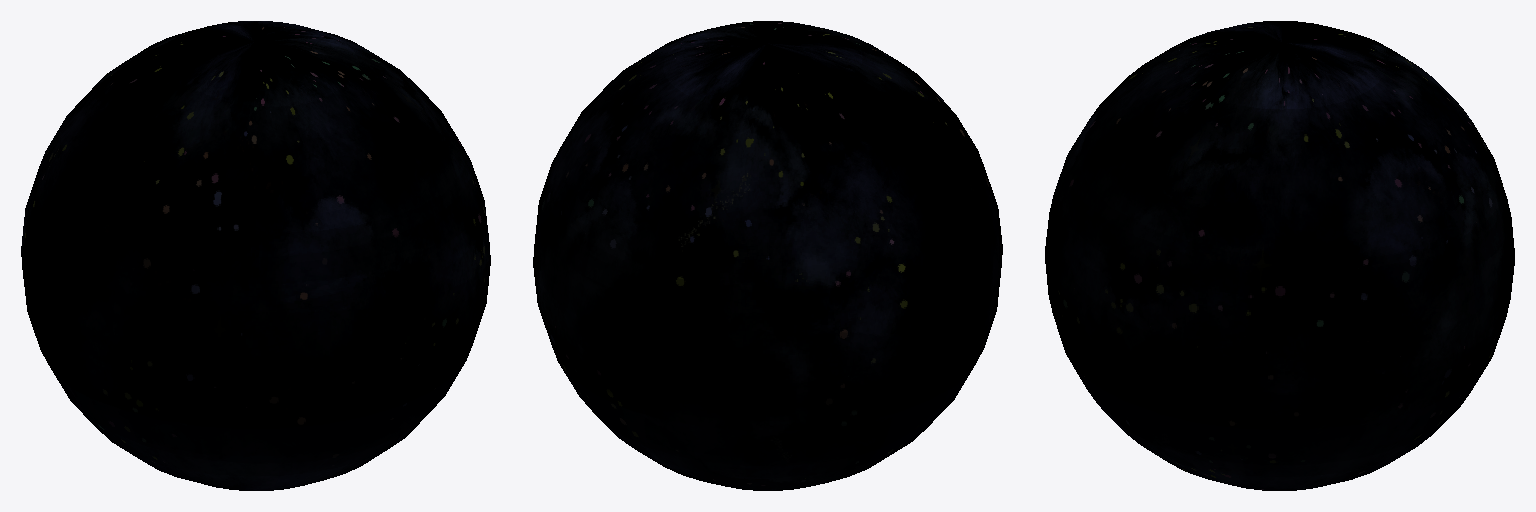
3 views of the same model, side by side, from view 1: azimuth 30°, elevation 25°; view 2: azimuth 150°, elevation 25°; view 3: azimuth 270°, elevation 25° (orthographic).
Parts seen in each view (by area): view 1: 球; view 2: 球; view 3: 球.
Boxes of the visible parts, x1,y1,x2,y2 form: 球: [21, 21, 490, 490]; 球: [533, 21, 1002, 490]; 球: [1045, 21, 1514, 490].
Bounding box in the file's own units: 100 × 100 × 100.
1 materials, 1 textured.